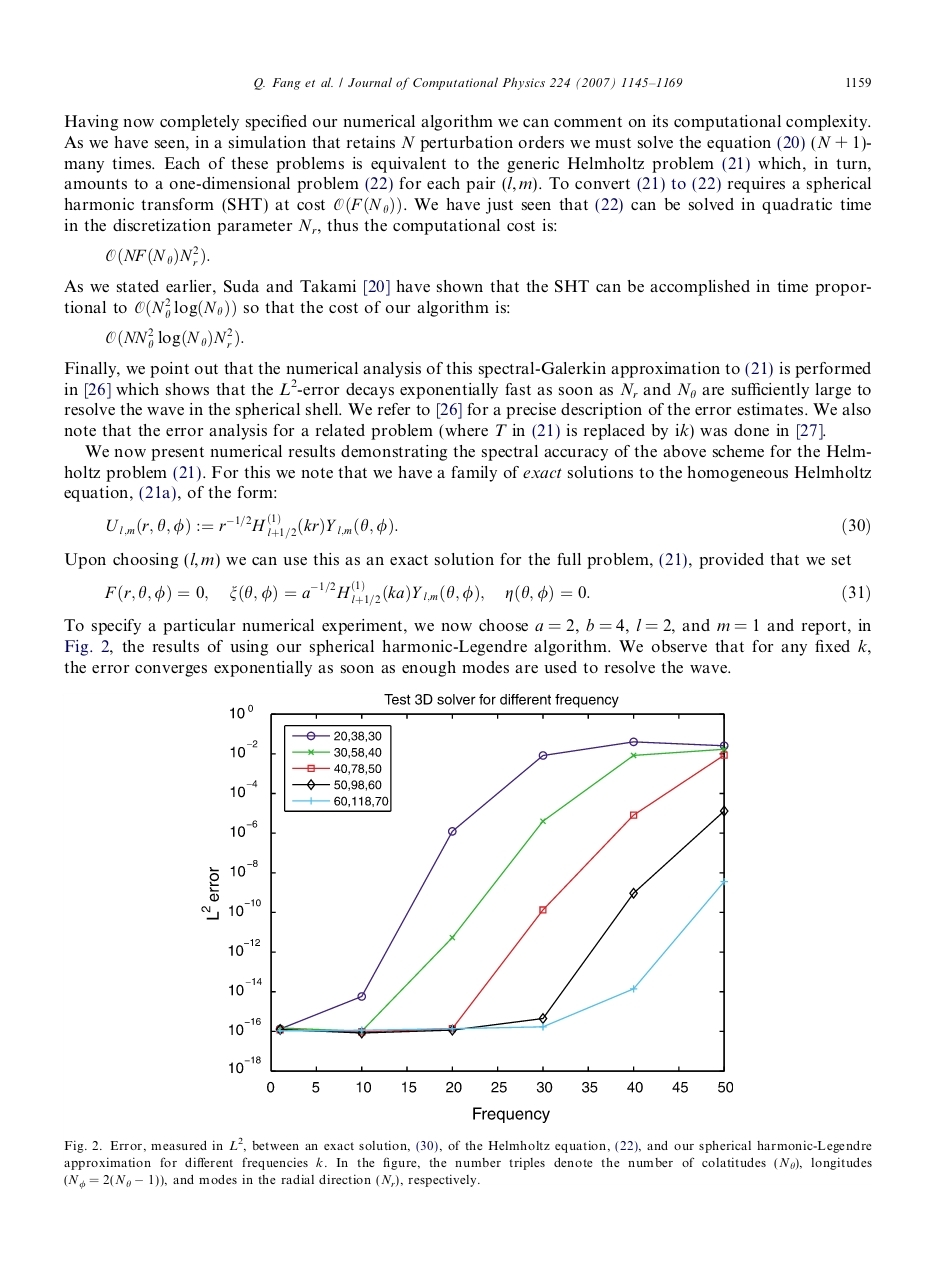figure: (201, 694, 732, 1122)
formula: (104, 580, 869, 606), (106, 513, 869, 539), (106, 327, 243, 348), (106, 245, 209, 266)
